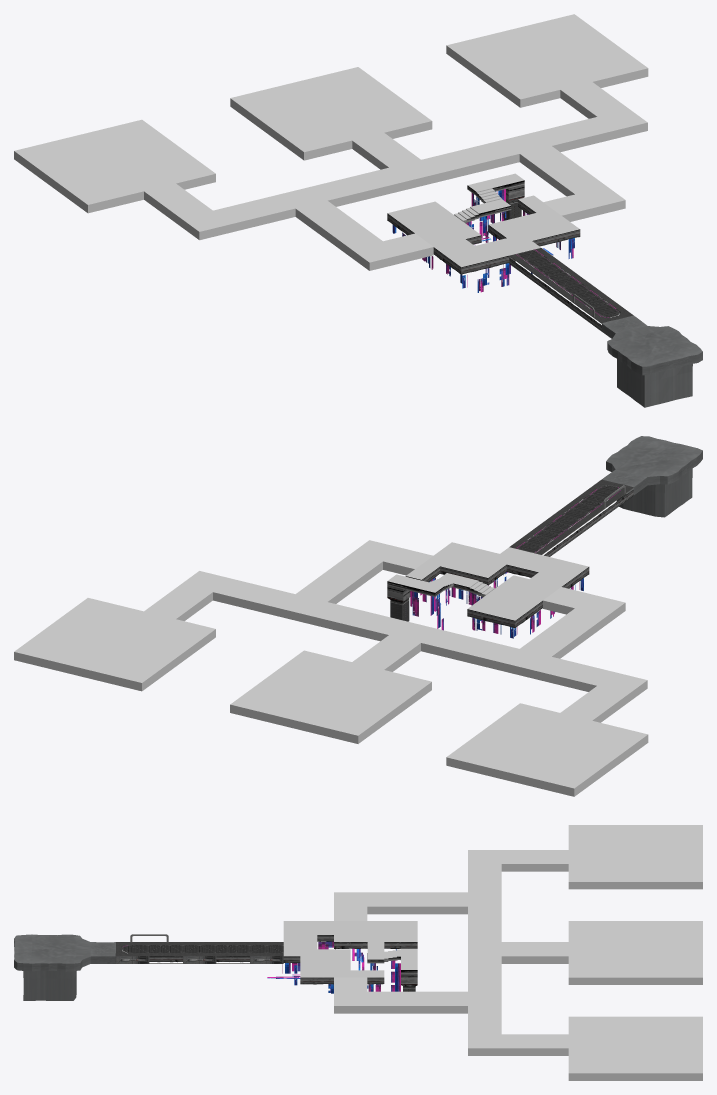
Rendered from Main.FBX.
3 views of the same model, one above another, from view 1: azimuth 30°, elevation 25°; view 2: azimuth 150°, elevation 25°; view 3: azimuth 270°, elevation 25° (orthographic). The views are drawn at different scales.
Parts seen in each view (by area): view 1: Object006, Box038, Box047, Box040, Highlights, Box014, Box043, Box033, Box013, Box041, Box056, Box023 (+23 smaller); view 2: Object006, Box040, Box047, Box038, Highlights, Box023, Box055, Box056, Box050, Box046, Box032, Box041 (+23 smaller); view 3: Object006, Box040, Box047, Box038, Highlights, Box049, Box048, Box052, Box051, Box013, Box022, Box053 (+23 smaller).
Part boxes in pixels (x1=…): Object006: x1=387, y1=173, x2=702, y2=407; Box038: x1=230, y1=67, x2=432, y2=160; Box047: x1=446, y1=14, x2=648, y2=107; Box040: x1=14, y1=119, x2=215, y2=213; Highlights: x1=392, y1=189, x2=574, y2=292; Box014: x1=351, y1=241, x2=401, y2=270; Box043: x1=181, y1=210, x2=231, y2=240; Box033: x1=405, y1=156, x2=455, y2=185; Box013: x1=575, y1=186, x2=625, y2=215; Box041: x1=245, y1=195, x2=295, y2=224; Box056: x1=341, y1=171, x2=391, y2=200; Box023: x1=469, y1=140, x2=519, y2=169; Object006: x1=387, y1=436, x2=702, y2=628; Box040: x1=446, y1=703, x2=648, y2=796; Box047: x1=14, y1=598, x2=215, y2=691; Box038: x1=230, y1=650, x2=431, y2=743; Highlights: x1=410, y1=572, x2=583, y2=638; Box023: x1=309, y1=602, x2=358, y2=631; Box055: x1=469, y1=641, x2=518, y2=670; Box056: x1=437, y1=633, x2=487, y2=662; Box050: x1=277, y1=594, x2=326, y2=623; Box046: x1=213, y1=578, x2=262, y2=608; Box032: x1=341, y1=610, x2=390, y2=639; Box041: x1=533, y1=656, x2=583, y2=686; Object006: x1=14, y1=921, x2=417, y2=1000; Box040: x1=568, y1=825, x2=702, y2=889; Box047: x1=568, y1=1016, x2=702, y2=1080; Box038: x1=568, y1=921, x2=702, y2=984; Highlights: x1=267, y1=941, x2=400, y2=993; Box049: x1=401, y1=991, x2=434, y2=1013; Box048: x1=367, y1=991, x2=400, y2=1013; Box052: x1=401, y1=892, x2=434, y2=914; Box051: x1=367, y1=892, x2=400, y2=914; Box013: x1=334, y1=991, x2=367, y2=1013; Box022: x1=434, y1=991, x2=467, y2=1013; Box053: x1=434, y1=892, x2=467, y2=914.
Bounding box in the file's own units: 7000 × 647 × 8214.
